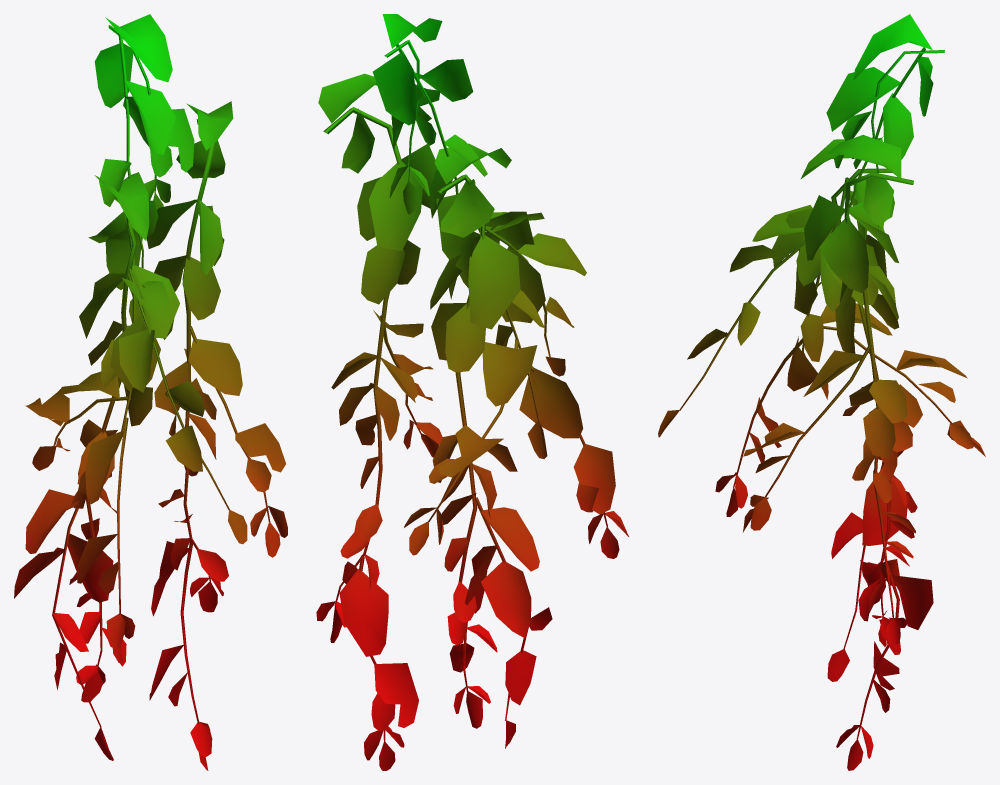
The model's file is Var12_LOD2.fbx.
3 renders of one model, left to right at view 1: azimuth 30°, elevation 25°; view 2: azimuth 150°, elevation 25°; view 3: azimuth 270°, elevation 25°, orthographic. The views are drawn at different scales.
Visible parts, largest first — view 1: _wp4w_Var12_LOD2; view 2: _wp4w_Var12_LOD2; view 3: _wp4w_Var12_LOD2.
Boxes of the visible parts, x1=… form: _wp4w_Var12_LOD2: x1=14, y1=14, x2=287, y2=770; _wp4w_Var12_LOD2: x1=316, y1=14, x2=628, y2=770; _wp4w_Var12_LOD2: x1=658, y1=14, x2=985, y2=770.
Bounding box in the file's own units: 23.1 × 76.86 × 31.59.
